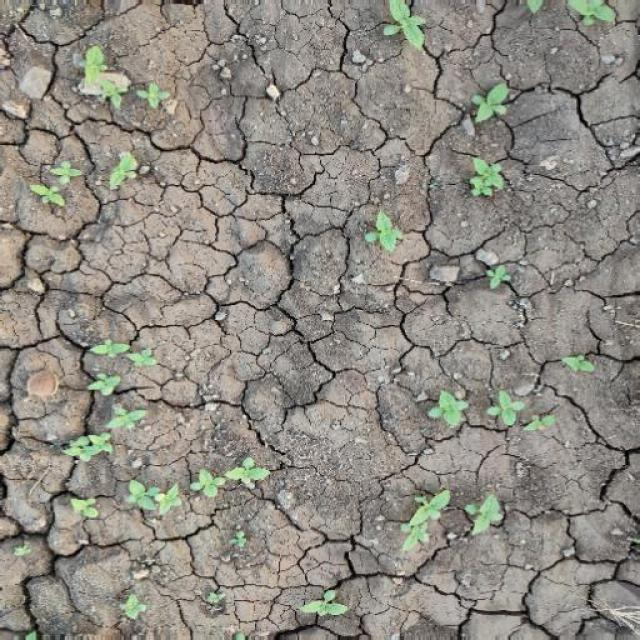crop: (41, 330, 162, 466), (378, 484, 514, 548), (75, 45, 175, 113), (189, 449, 281, 509), (484, 383, 556, 438), (374, 1, 438, 59), (120, 475, 185, 525), (31, 154, 81, 212), (358, 205, 408, 257), (460, 154, 508, 204), (468, 80, 510, 128), (425, 385, 470, 429), (481, 261, 515, 295)
